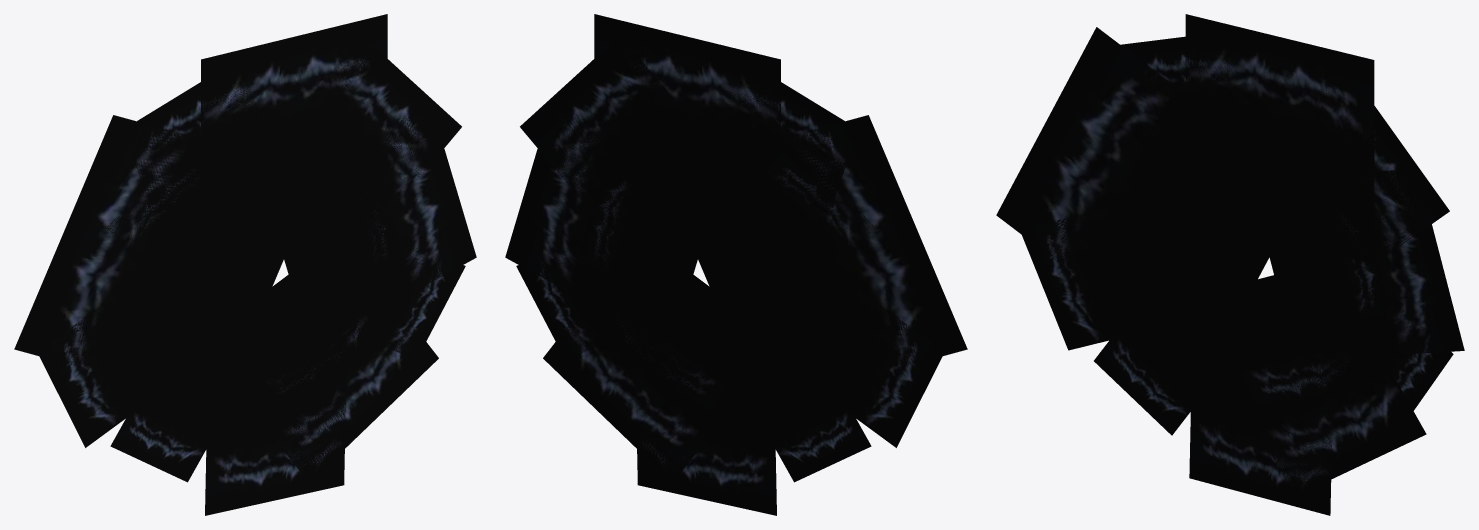
Rendered from shockwave_ground01.glb.
3 views of the same model, side by side, from view 1: azimuth 30°, elevation 25°; view 2: azimuth 150°, elevation 25°; view 3: azimuth 330°, elevation 25° (orthographic).
Visible parts, largest first — view 1: model_shockwave_ground01; view 2: model_shockwave_ground01; view 3: model_shockwave_ground01.
Part boxes in pixels (x1=…): model_shockwave_ground01: x1=14, y1=14, x2=476, y2=515; model_shockwave_ground01: x1=505, y1=14, x2=967, y2=515; model_shockwave_ground01: x1=996, y1=14, x2=1464, y2=515.
Size of the model in its own units: 1.95 by 1.85 by 0.
1 material, 1 textured.
